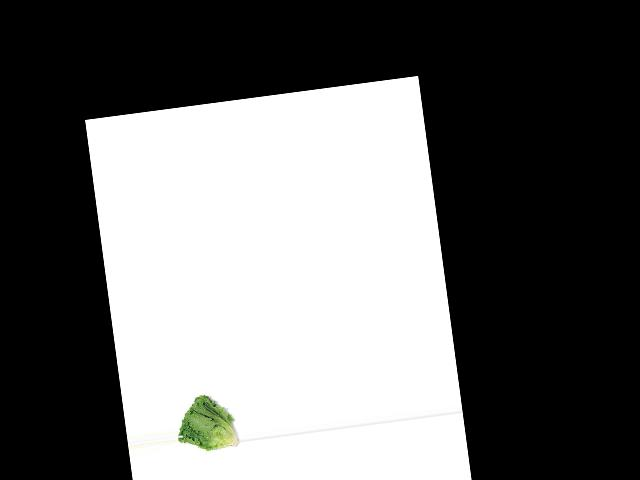lettuce: (172, 385, 242, 459)
